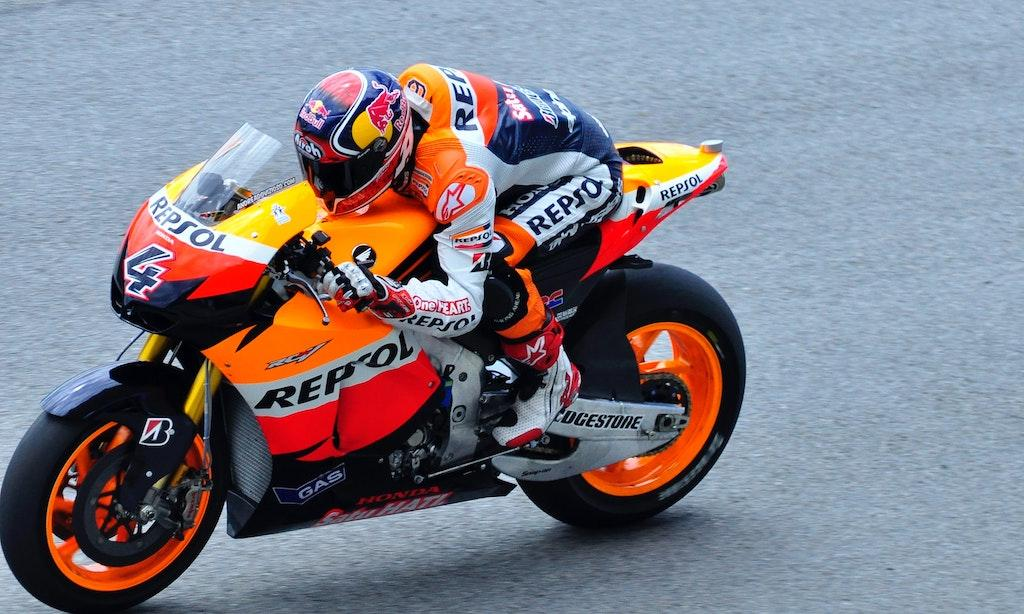helmet: (292, 67, 418, 218)
